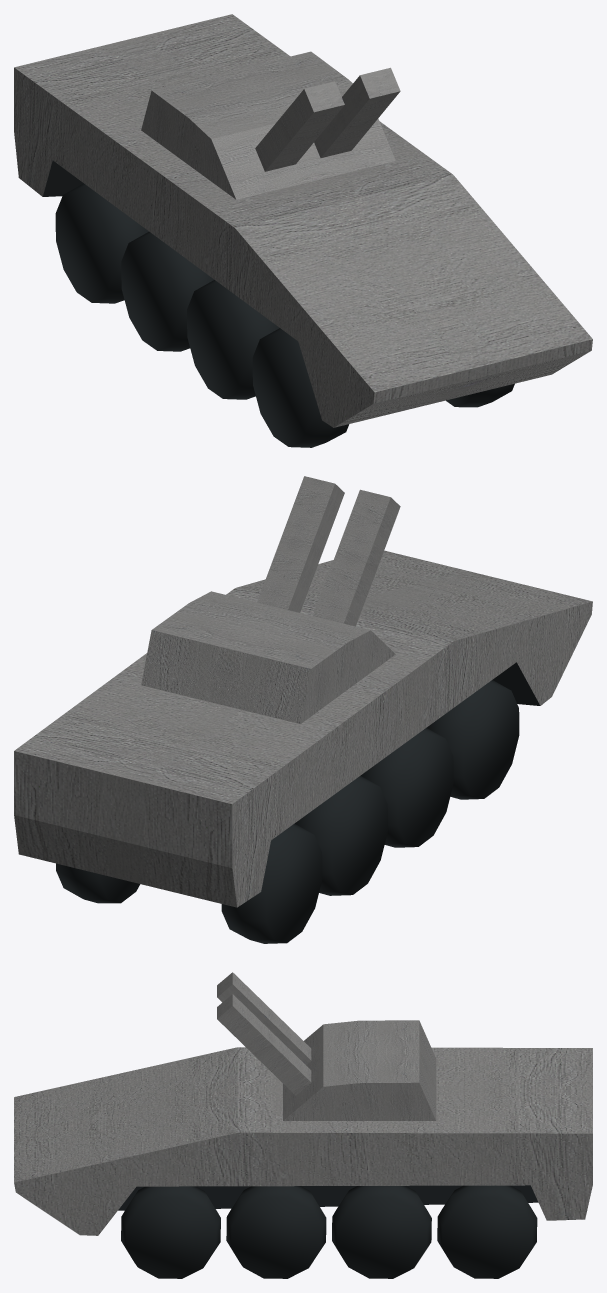
File: Nemo.fbx
The picture shows the model from 3 angles, top to bottom: view 1: azimuth 30°, elevation 25°; view 2: azimuth 150°, elevation 25°; view 3: azimuth 270°, elevation 25°; orthographic projection. The views are drawn at different scales.
Parts seen in each view (by area): view 1: Nemo, Tower, Canon; view 2: Nemo, Tower, Canon; view 3: Nemo, Tower, Canon.
Boxes of the visible parts, box(x1,y1,x2,y2) form: Nemo: box(14, 14, 592, 447); Tower: box(141, 51, 395, 199); Canon: box(255, 67, 400, 171); Nemo: box(14, 550, 592, 943); Tower: box(141, 591, 395, 723); Canon: box(257, 476, 400, 626); Nemo: box(14, 1047, 592, 1278); Tower: box(283, 1020, 436, 1120); Canon: box(217, 972, 311, 1095).
Bounding box in the file's own units: 40.39 × 55.72 × 116.
